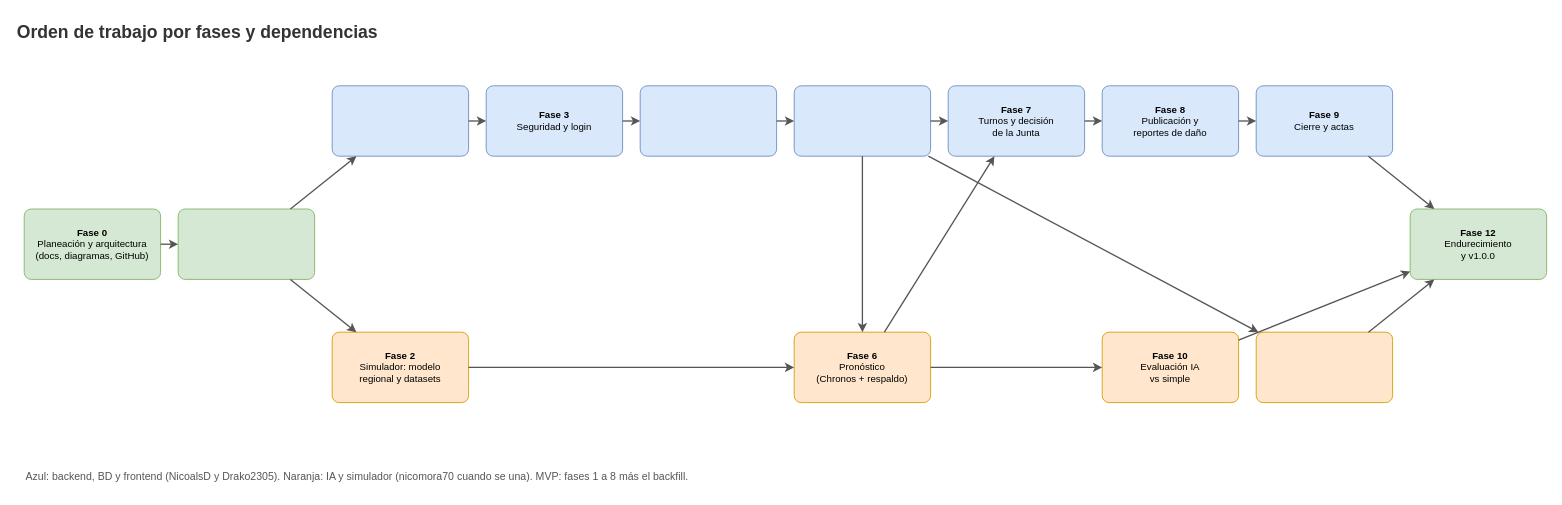
Image size: 1562x505. Some labels were removed from this diagram. Each missing label, with the centre of its shape:
"Fase 1 Fundaciones (esqueletos, CI, Swagger)" belongs at [246,243].
"Fase 11 Simulador en vivo y dispositivos" belongs at [1324,367].
"Fase 2 Base de datos (57 tablas, RLS, FieldLimits)" belongs at [400,120].
"Fase 4 Reglas y red" belongs at [708,120].
"Fase 5 Lecturas, cola offline e importación" belongs at [862,120].
